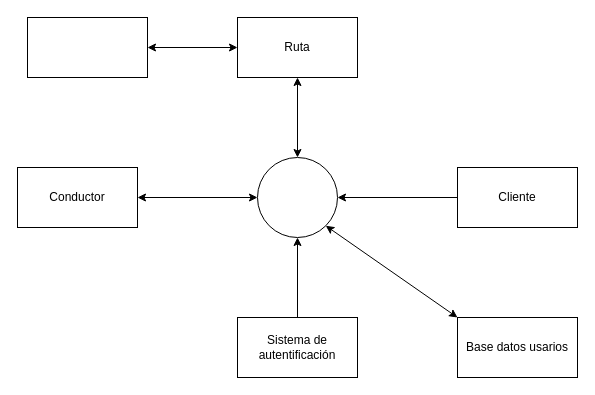
The diagram is 595 pixels wide and 395 high, and some of its shapes have lost their labels. The shapes that lost their labels are listed below. From the top down, each one's centre as x and y in pixels, then its label:
At (x=87, y=47): "Base datos de rutas".
At (x=297, y=197): "Carpooling".
